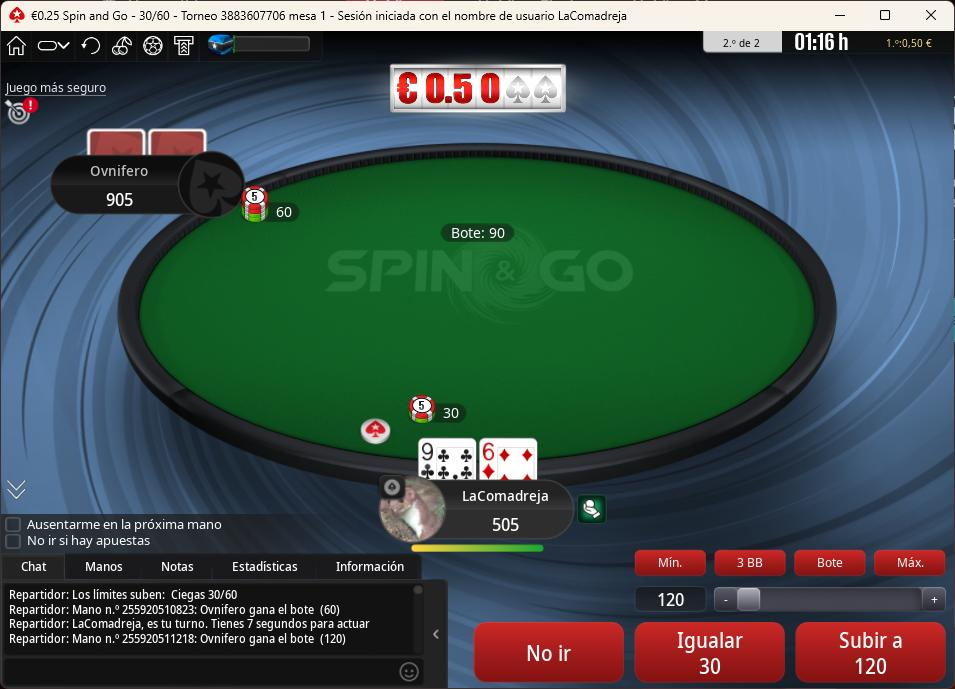ButtonCall: (627, 616, 785, 687)
ButtonCheck: (632, 618, 790, 689)
ButtonFold: (469, 617, 628, 685)
ButtonMaxRaise: (874, 550, 948, 579)
ButtonMinRaise: (632, 547, 709, 579)
ButtonPotRaise: (793, 548, 868, 581)
ButtonRaise: (794, 619, 948, 689)
Dealer: (360, 417, 393, 445)
HiddenCards: (82, 131, 208, 161)
Player: (48, 151, 244, 214)
PlayerBet: (242, 186, 308, 229)
PlayerChips: (483, 519, 531, 538)
Pot: (439, 222, 516, 244)
PrincipalBet: (405, 391, 471, 426)
PrincipalCards: (420, 437, 545, 483)
PrincipalCards1: (414, 436, 477, 483)
PrincipalCards2: (479, 436, 542, 482)
PrincipalPlayer: (370, 469, 568, 539)
SmallBigBlind: (131, 10, 182, 28)
